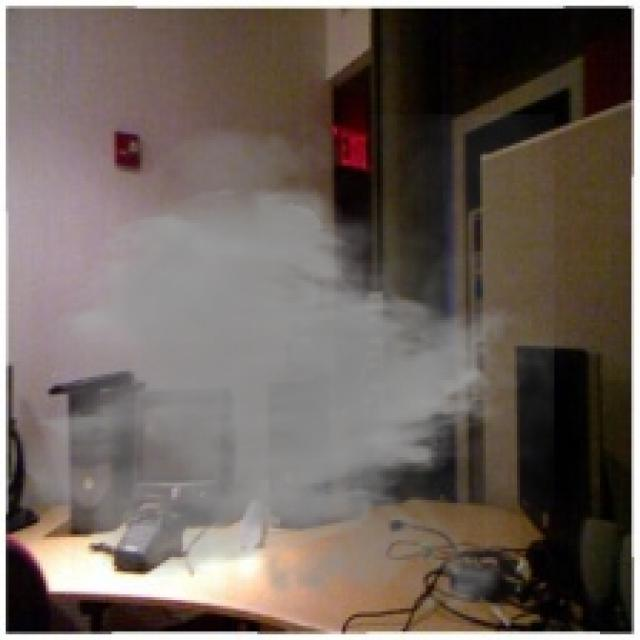smoke: (17, 114, 554, 632)
